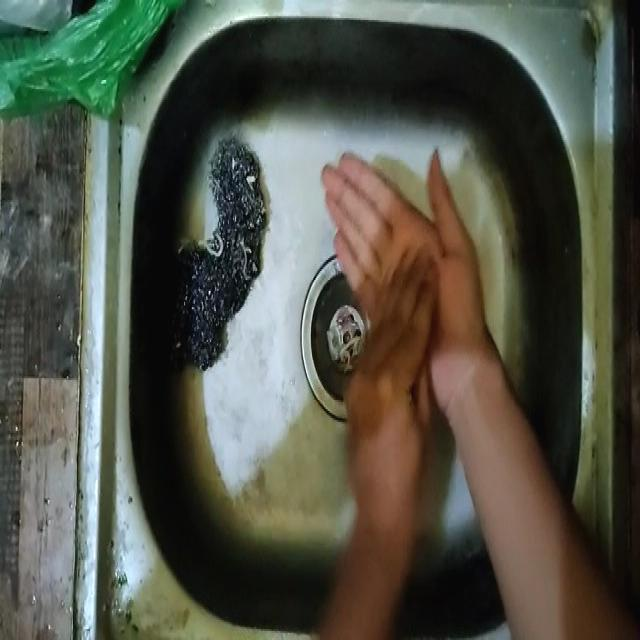step_6: (316, 135, 496, 482)
